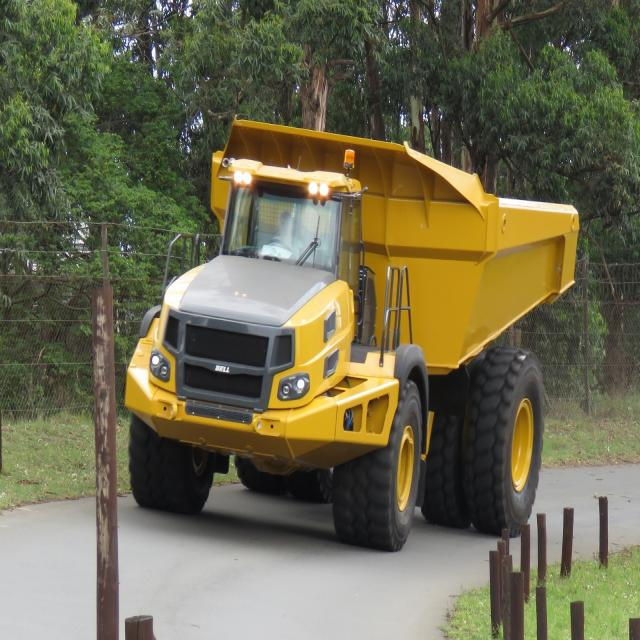dump_truck: (124, 111, 590, 538)
